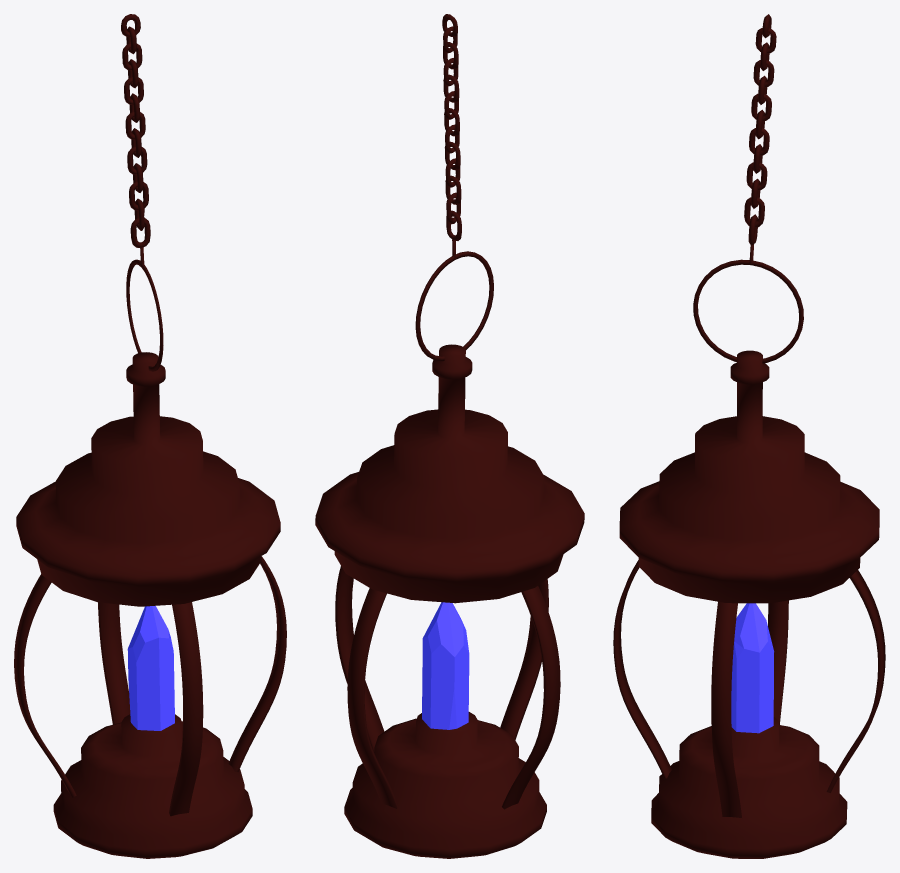
Rendered from Lamp_l.fbx.
The picture shows the model from 3 angles, left to right: view 1: azimuth 30°, elevation 25°; view 2: azimuth 150°, elevation 25°; view 3: azimuth 270°, elevation 25°; orthographic projection.
Parts seen in each view (by area): view 1: crystal.003; view 2: crystal.003; view 3: crystal.003.
Boxes of the visible parts, left/top/right/bottom form: crystal.003: left=14, top=14, right=286, bottom=858; crystal.003: left=315, top=14, right=584, bottom=858; crystal.003: left=613, top=14, right=885, bottom=858.
Bounding box in the file's own units: 71.77 × 70.4 × 231.
